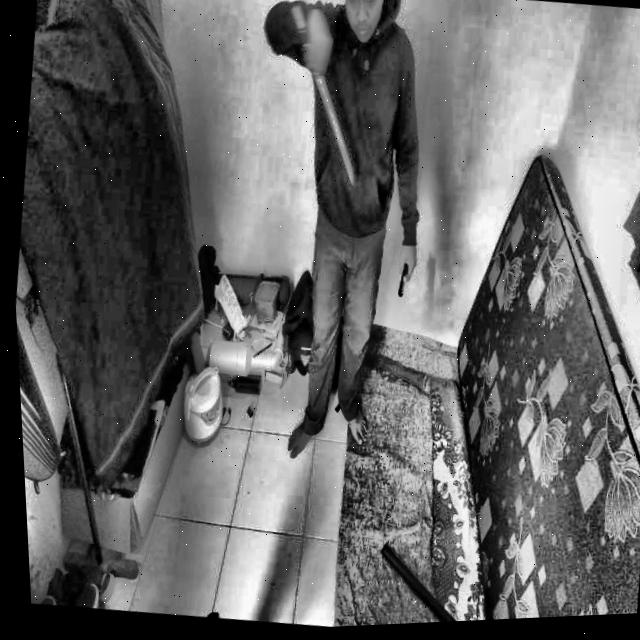pisau: (285, 5, 374, 190)
